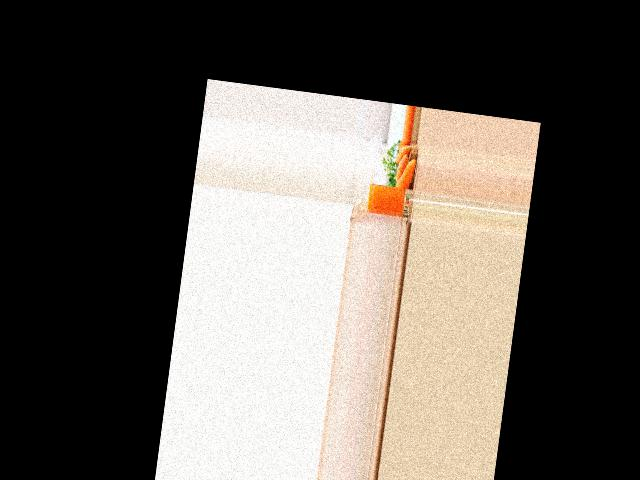carrot: (395, 144, 408, 170)
